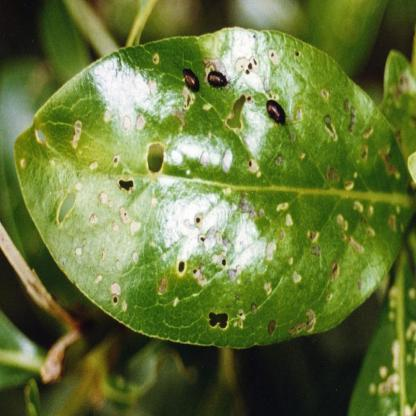beetle: (206, 61, 228, 93), (266, 98, 289, 128), (181, 61, 199, 94)
